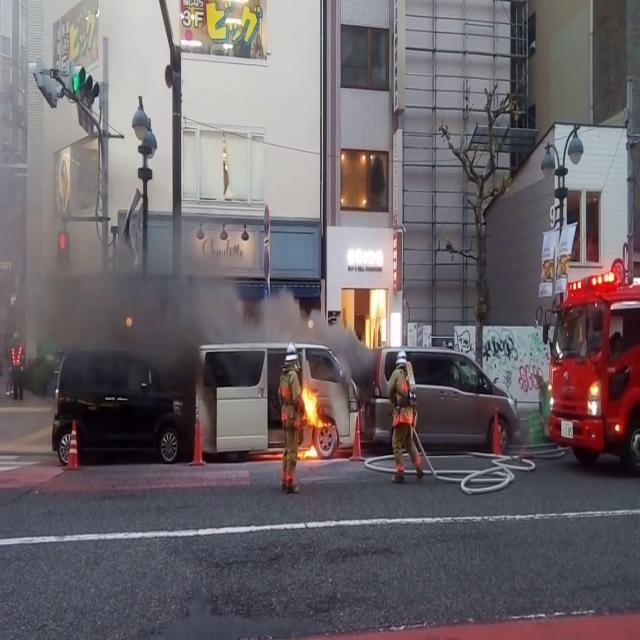Fire: (295, 376, 333, 458)
Smoke: (0, 182, 246, 375)
